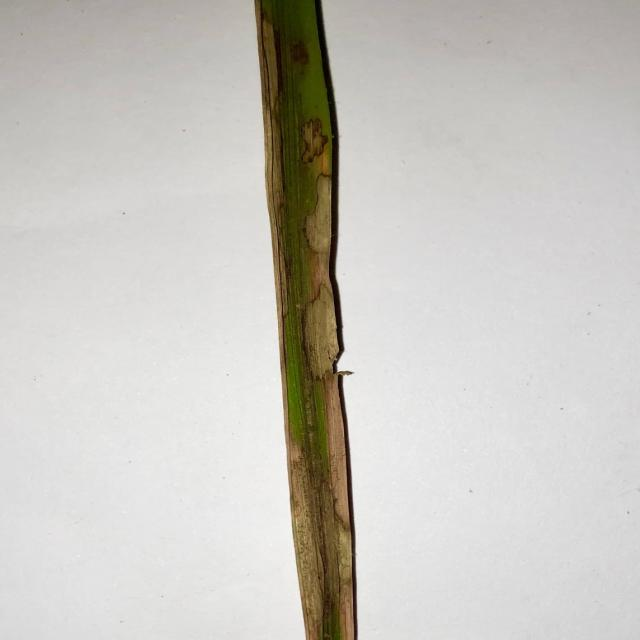Leaf Blight: (255, 0, 354, 640), (300, 118, 328, 162)
